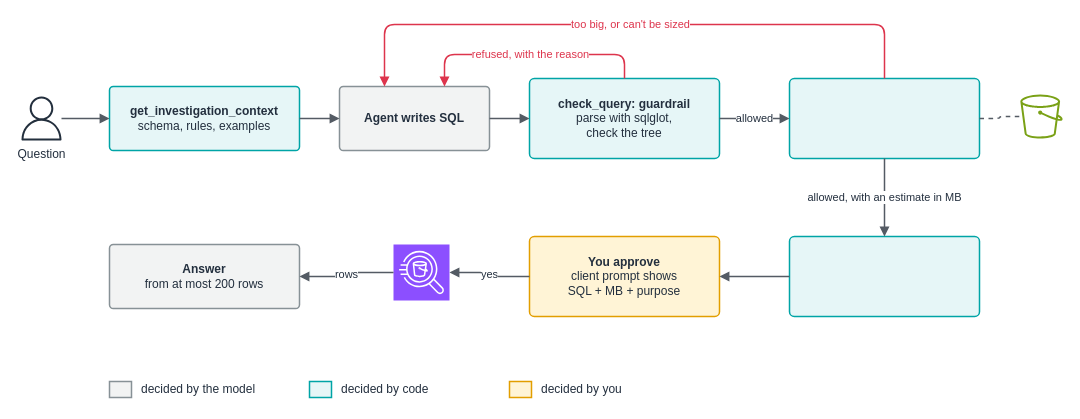
Some shapes in this 1080 by 419 pixel diagram are drawn without their labels. Each missing label, with the box of its shape:
Athena workgroup hard scan cutoff: (392, 244, 450, 300)
check_query: estimate sum S3 object sizes of selected days: (788, 77, 980, 159)
run_query guardrail again, estimate must match the server's: (788, 235, 980, 317)
